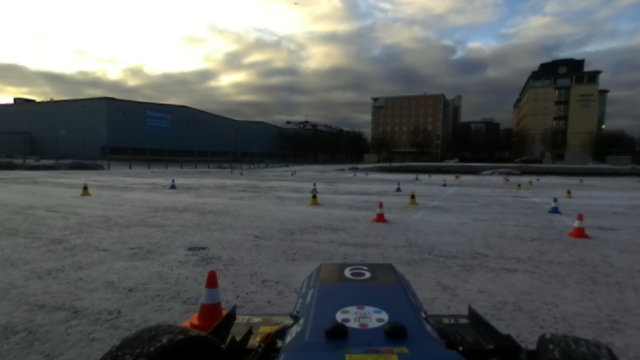blue: (547, 196, 562, 214), (168, 177, 178, 190), (394, 181, 403, 192)
orange: (184, 269, 234, 331), (568, 214, 590, 239), (371, 201, 389, 224)
yellow: (309, 191, 321, 206), (407, 191, 418, 206), (79, 183, 90, 197), (564, 187, 574, 199)
